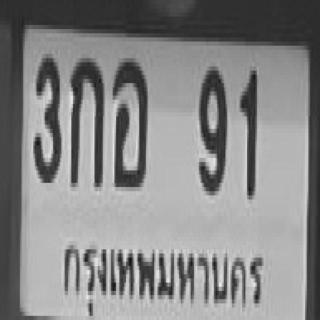A01: (70, 54, 103, 183)
A43: (111, 54, 146, 183)
N01: (239, 67, 255, 195)
N03: (31, 50, 60, 179)
N09: (197, 62, 226, 191)
P04: (59, 236, 262, 320)
